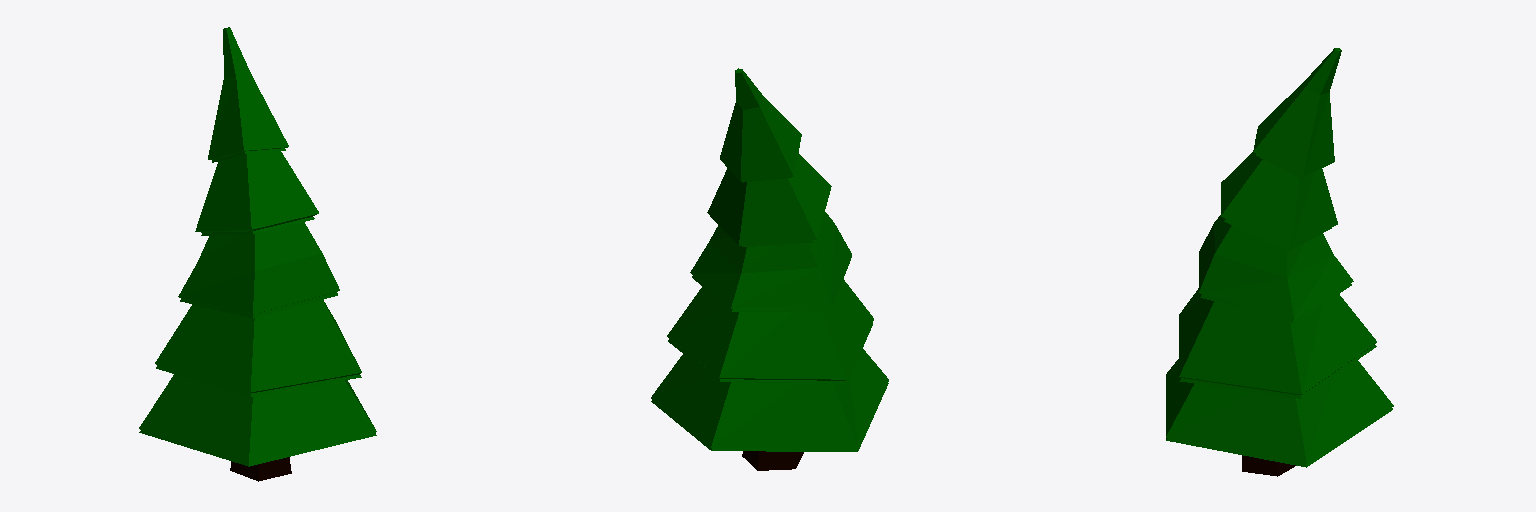
Rendered from Tree3.obj.
The picture shows the model from 3 angles: view 1: azimuth 30°, elevation 25°; view 2: azimuth 150°, elevation 25°; view 3: azimuth 270°, elevation 25°; orthographic projection.
Parts seen in each view (by area): view 1: Cylinder; view 2: Cylinder; view 3: Cylinder.
Part boxes in pixels (left/top/right/bottom): Cylinder: left=139, top=27, right=376, bottom=481; Cylinder: left=651, top=68, right=888, bottom=470; Cylinder: left=1166, top=48, right=1393, bottom=476.
Bounding box in the file's own units: 4.07 × 7.76 × 3.88.